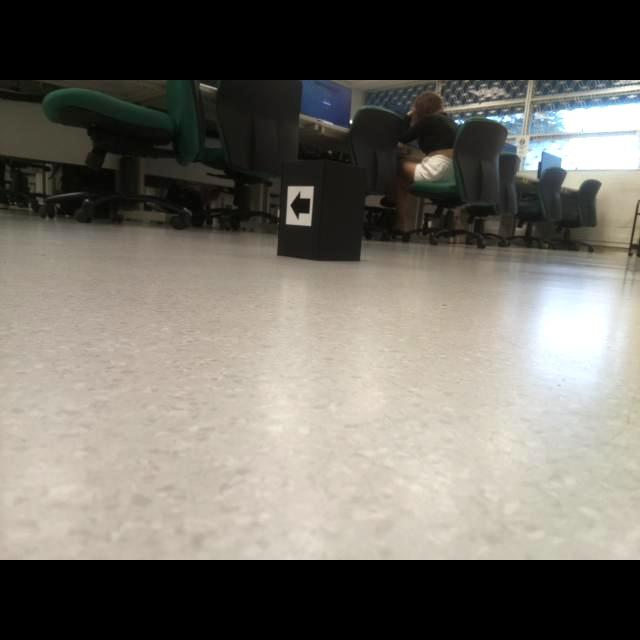LEFT: (290, 189, 311, 222)
